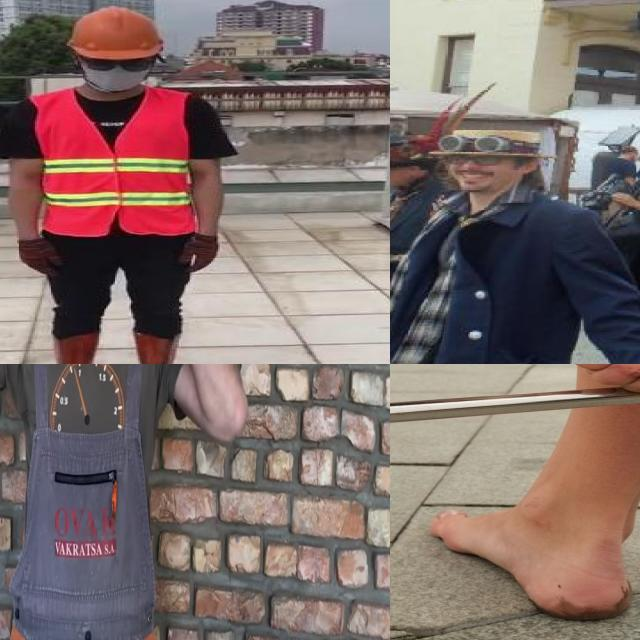Barefoots: (430, 507, 633, 621)
boots: (132, 332, 193, 364), (44, 333, 101, 364)
face_mask: (83, 52, 151, 90)
face_nomask: (452, 154, 503, 188)
glasses: (80, 54, 157, 74)
hand_glove: (18, 239, 64, 277), (176, 238, 218, 275)
head_helmet: (71, 4, 164, 59)
person: (0, 4, 224, 364), (0, 364, 249, 640), (390, 121, 605, 364)
vest: (31, 88, 195, 235)
